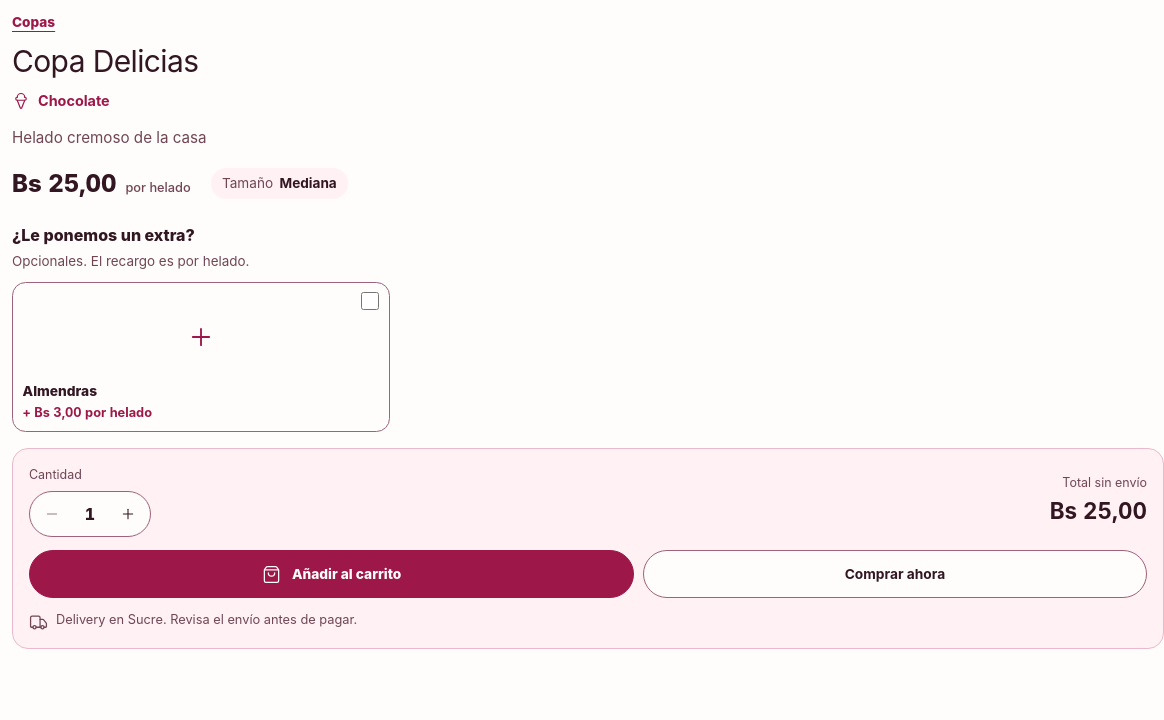
Configuración de helados › no muestra éxito si el carrito está lleno
Click the button "Añadir al carrito". click: [332, 574]
box: [29,550,634,598]
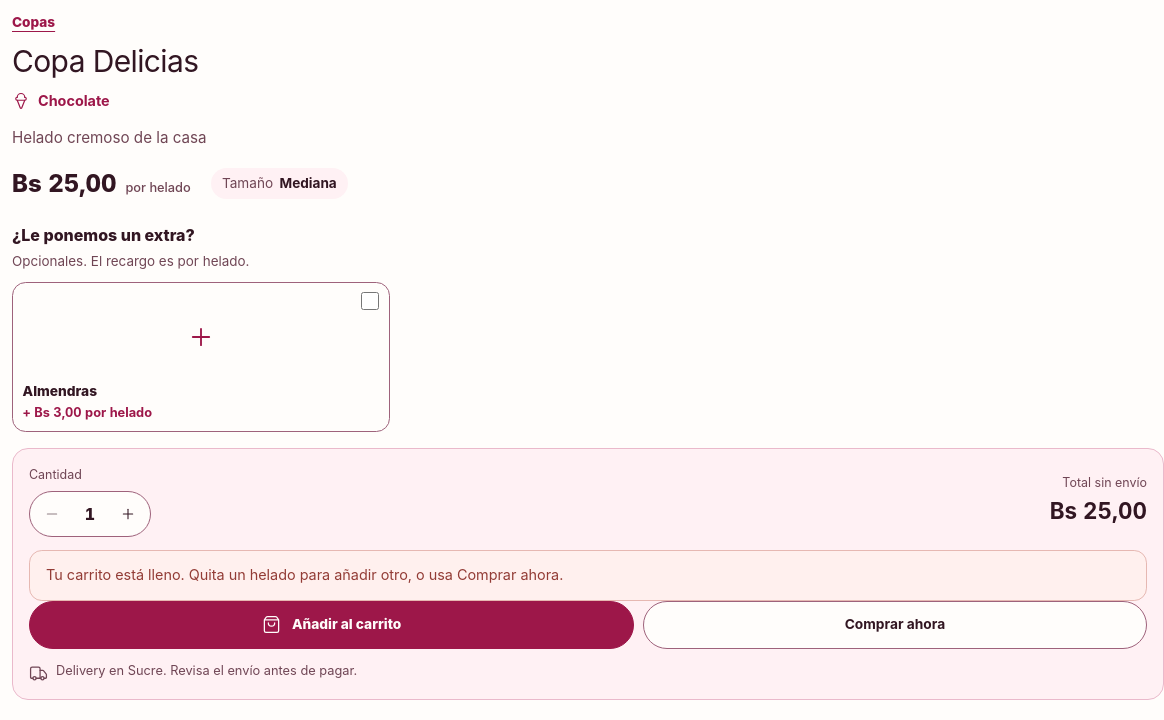
Result: the message shows "carrito está lleno" at [46,566,563,583]
